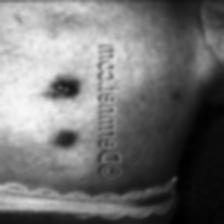Potentially Malignant Skin Tumors: (53, 128, 83, 148), (56, 78, 82, 96)
